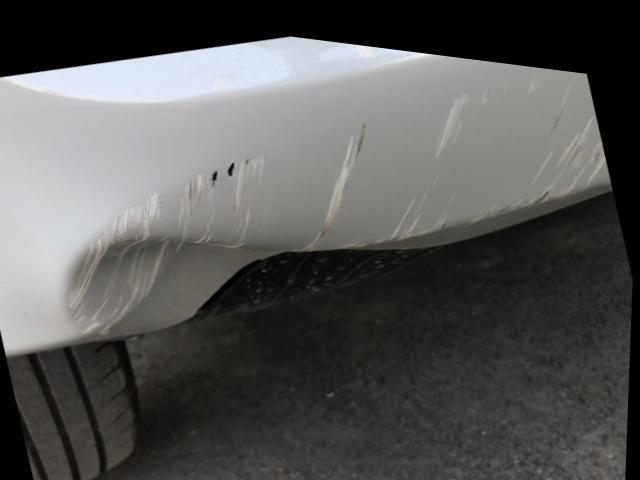dent: (72, 227, 436, 335)
scratch: (93, 58, 612, 242)
